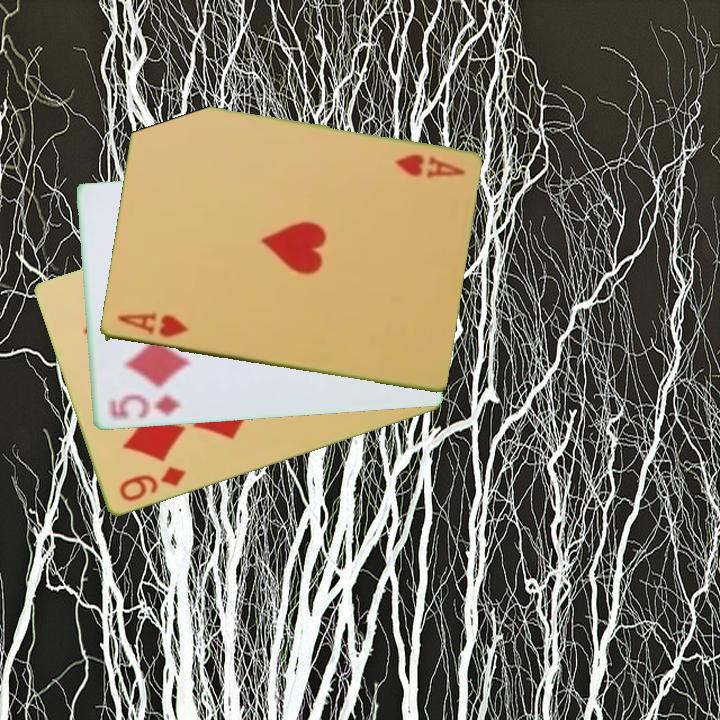5d: (105, 391, 183, 424)
9d: (115, 463, 189, 505)
Ah: (113, 309, 192, 341), (391, 151, 468, 180)
